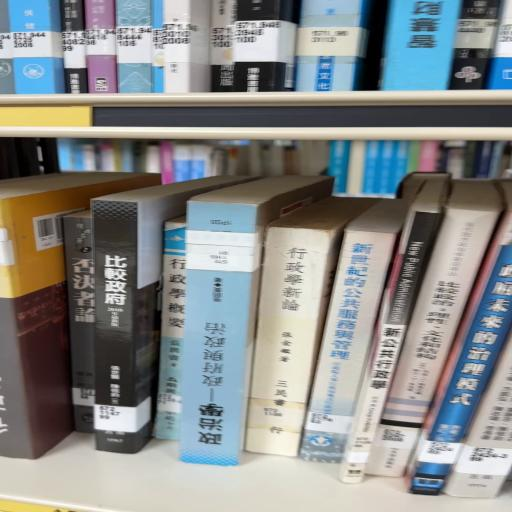reverse: (180, 176, 334, 466)
